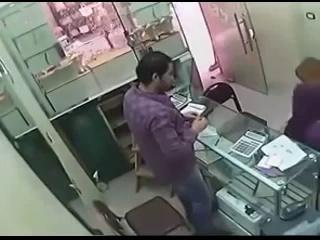Normal: (122, 51, 218, 233)
